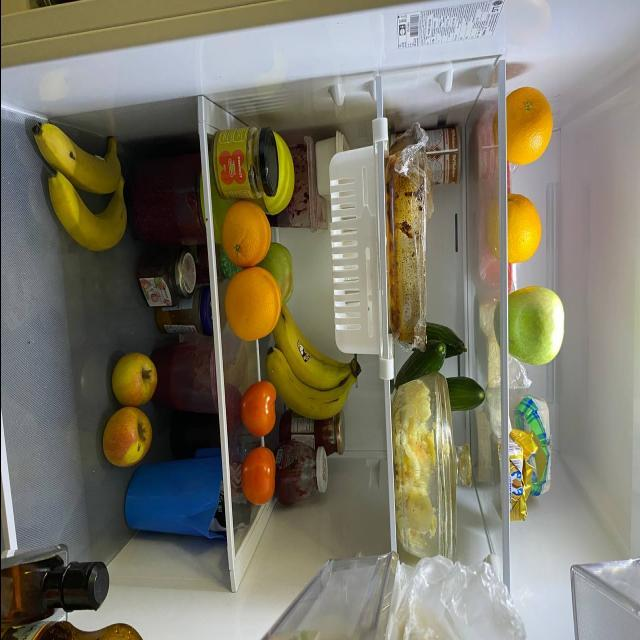Apple: (504, 278, 561, 368), (103, 407, 149, 472), (114, 358, 156, 403), (265, 243, 297, 297)
Banana: (266, 301, 366, 423), (30, 127, 128, 250)
Cucumber: (395, 339, 444, 381), (446, 370, 483, 420), (426, 322, 466, 359)
Orange: (504, 77, 547, 175), (226, 262, 276, 342), (503, 188, 544, 258), (227, 198, 267, 268)
Tomato: (242, 438, 277, 508), (240, 380, 281, 436)
